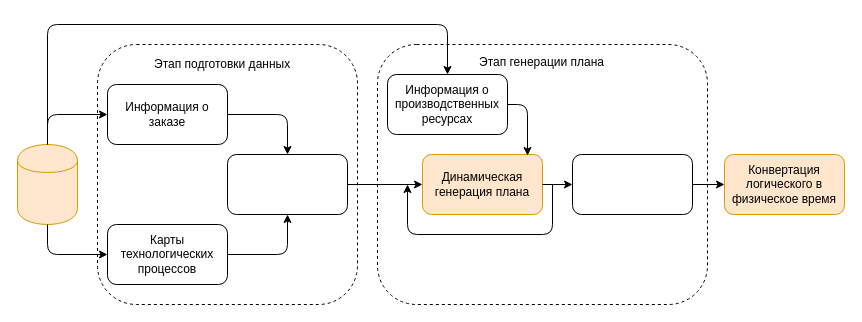
This 862x322 diagram has some shape labels left out. The shapes that lost their labels are listed below. From the top down, each one's centre as x and y in pixels, then its label:
At (47,184): "База данных".
At (287,184): "Генерация системы уравнений".
At (632,184): "Сгенерированный план".
